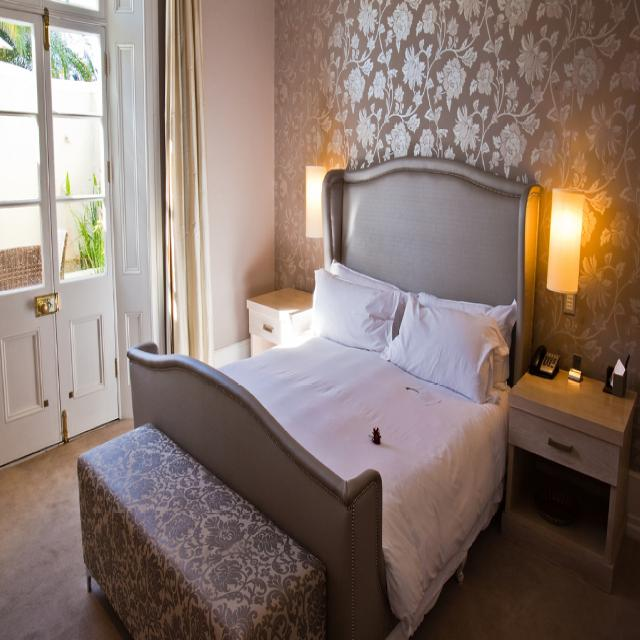desk: (498, 330, 640, 576)
